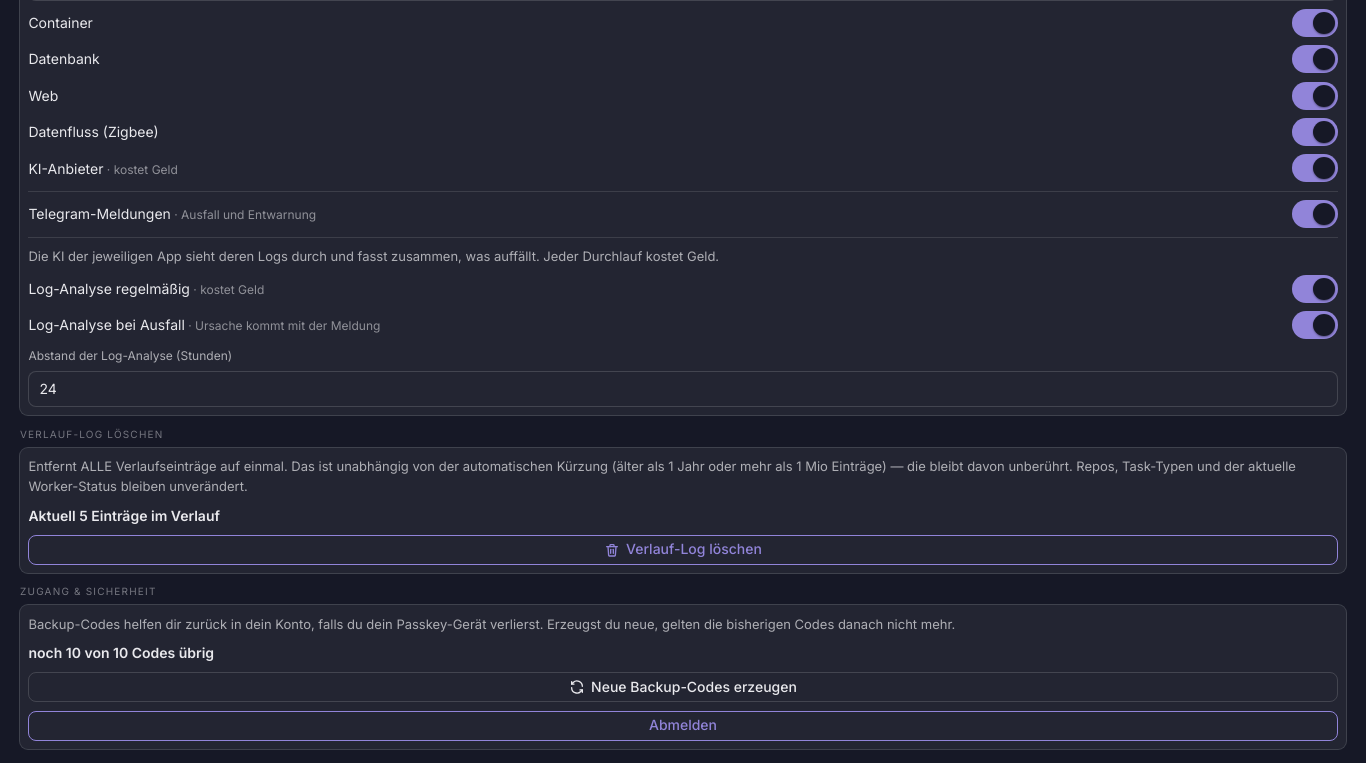
Test case: Einstellungen — Backup-Codes neu erzeugen (req-031) › AC: clicking 'Neue Backup-Codes erzeugen' opens a warning dialog before anything is generated
(page scrolled)
Expected: the text "noch 10 von 10 Codes übrig" is shown, x1=28 y1=644 x2=214 y2=661
Click the button "Neue Backup-Codes erzeugen" at (683, 687), box x1=28 y1=672 x2=1338 y2=702
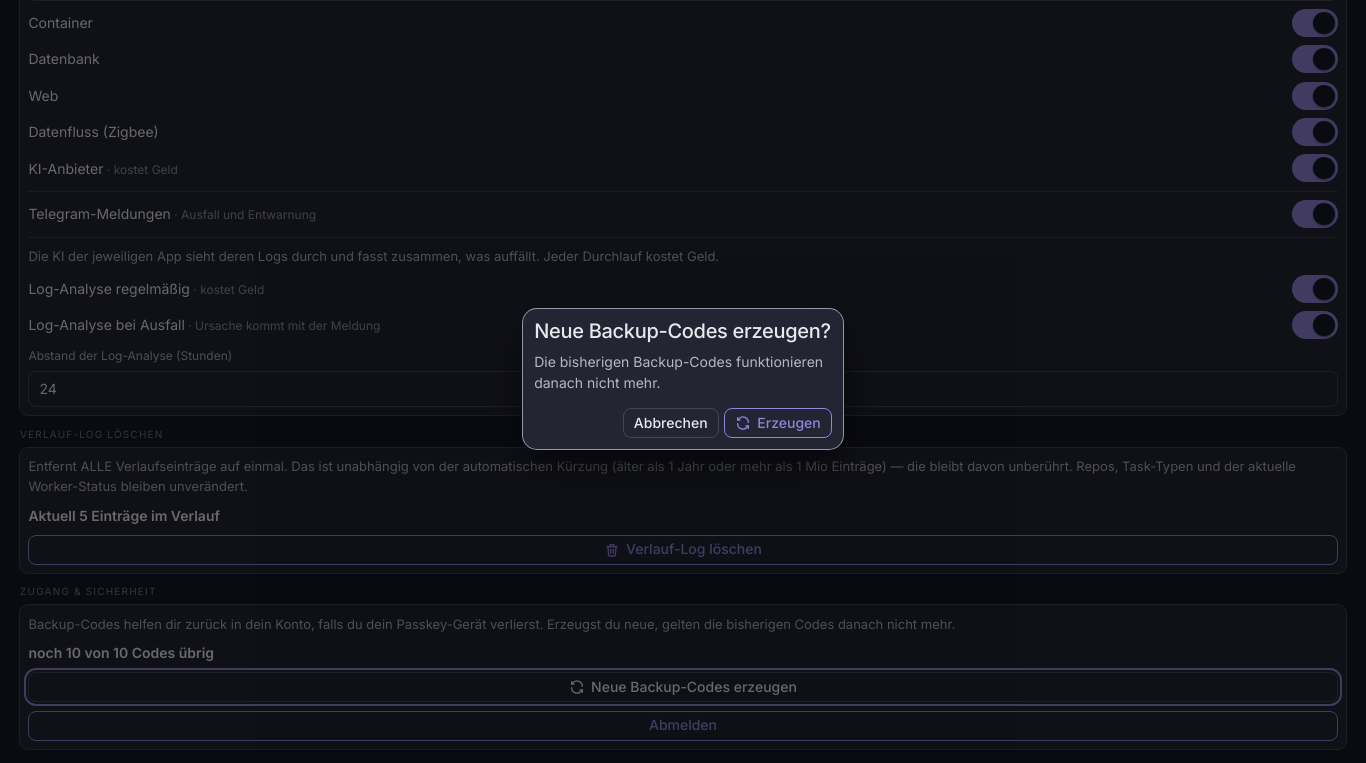
Result: the dialog is shown at x1=523 y1=309 x2=843 y2=449
Result: the text "Die bisherigen Backup-Codes funktionieren danach nicht mehr." is shown at x1=534 y1=351 x2=832 y2=394
